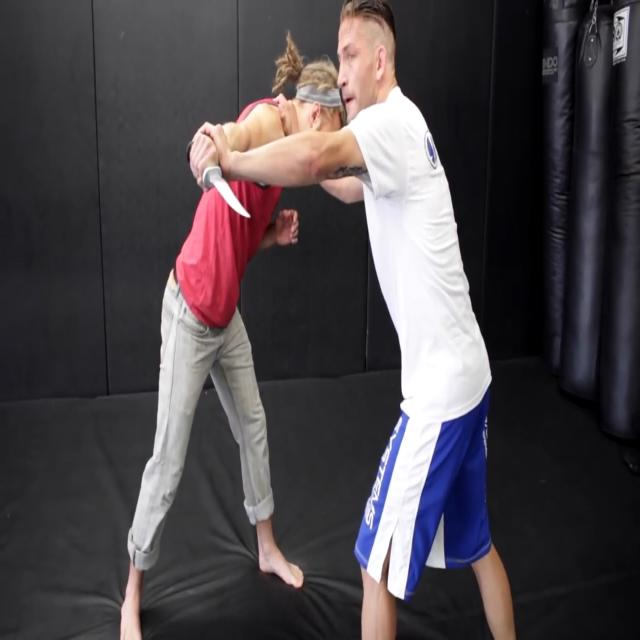knife: (206, 165, 253, 228)
